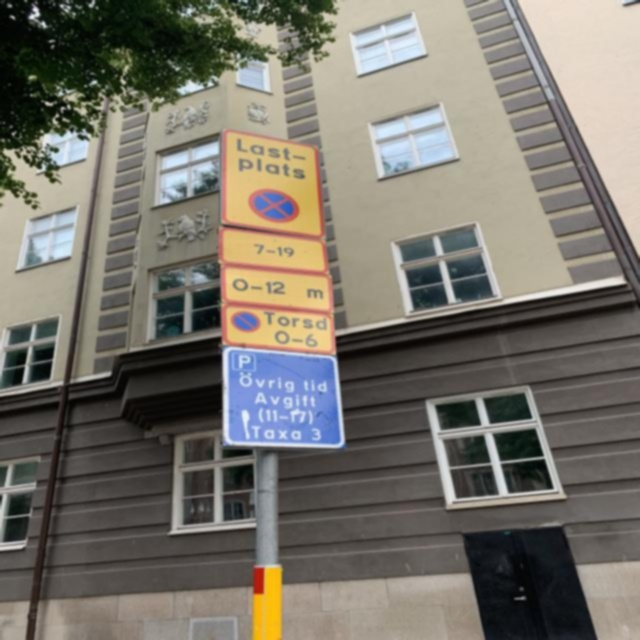lastplats: (218, 126, 332, 242)
